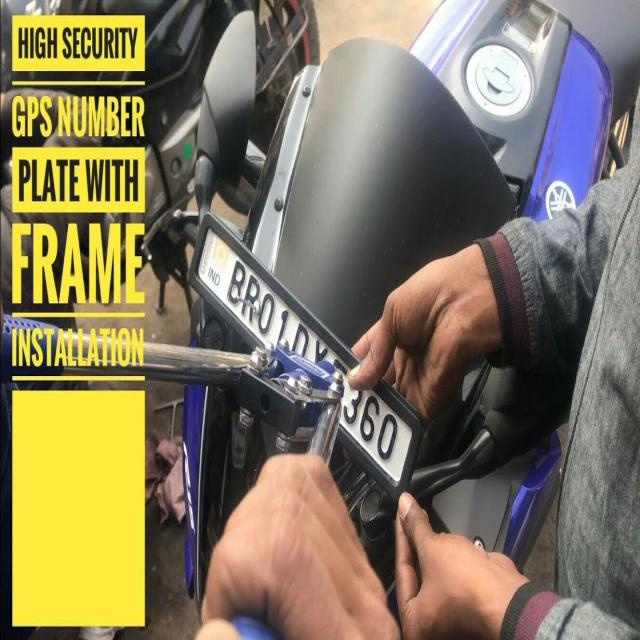plate: (196, 216, 422, 486)
